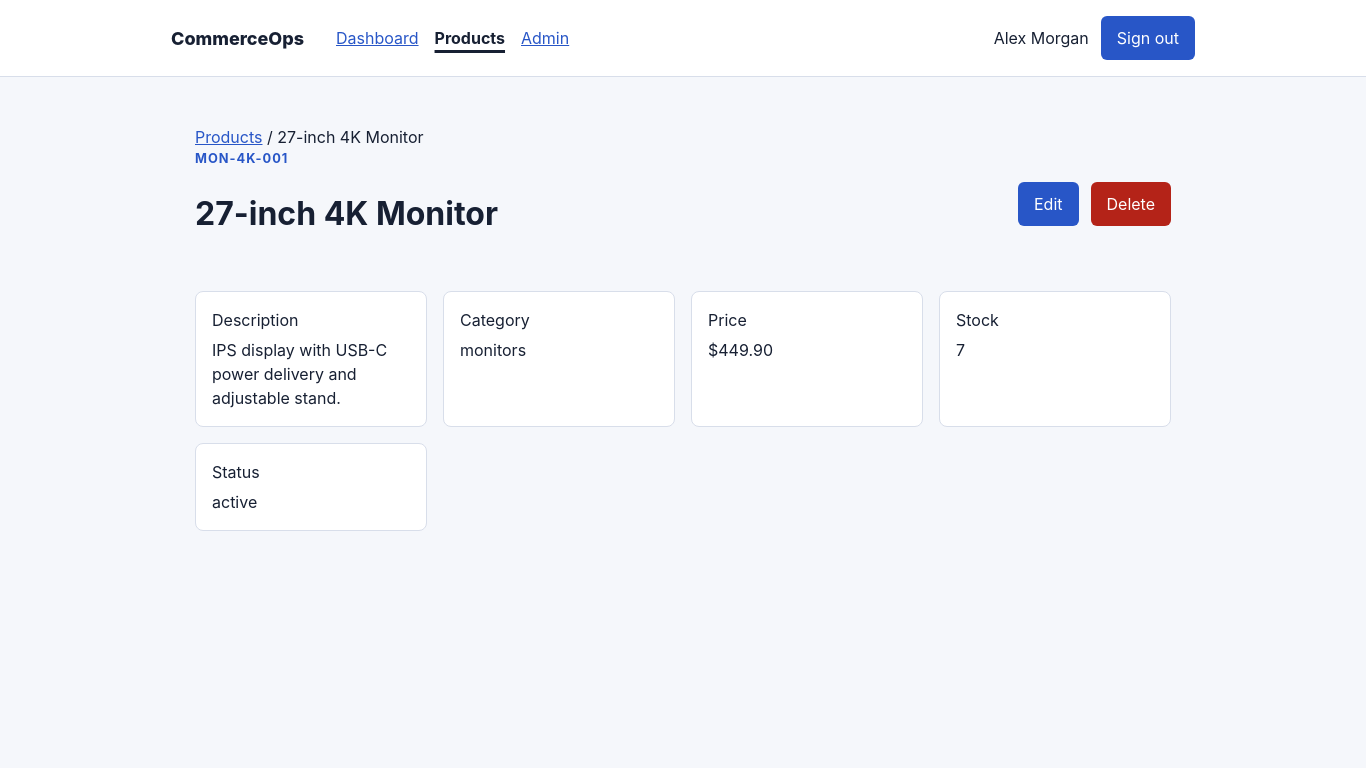
Test case: authentication UI › requires confirmation before an Admin deletes a product
Click the button "Delete" at (1131, 204), box [1090, 182, 1171, 226]
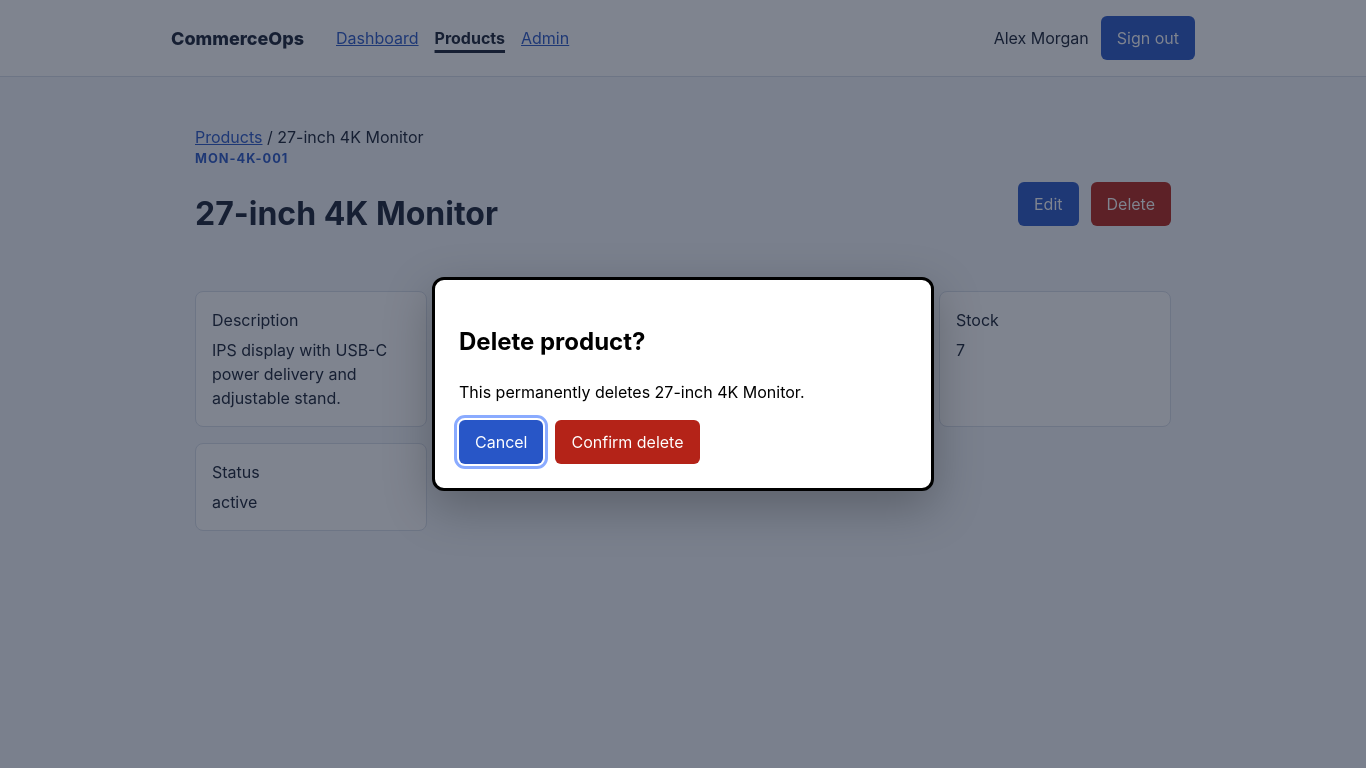
Expected: the dialog "Delete product?" is shown, [432, 277, 934, 491]
Click the button "Confirm delete" at (628, 442), box [556, 420, 700, 464]
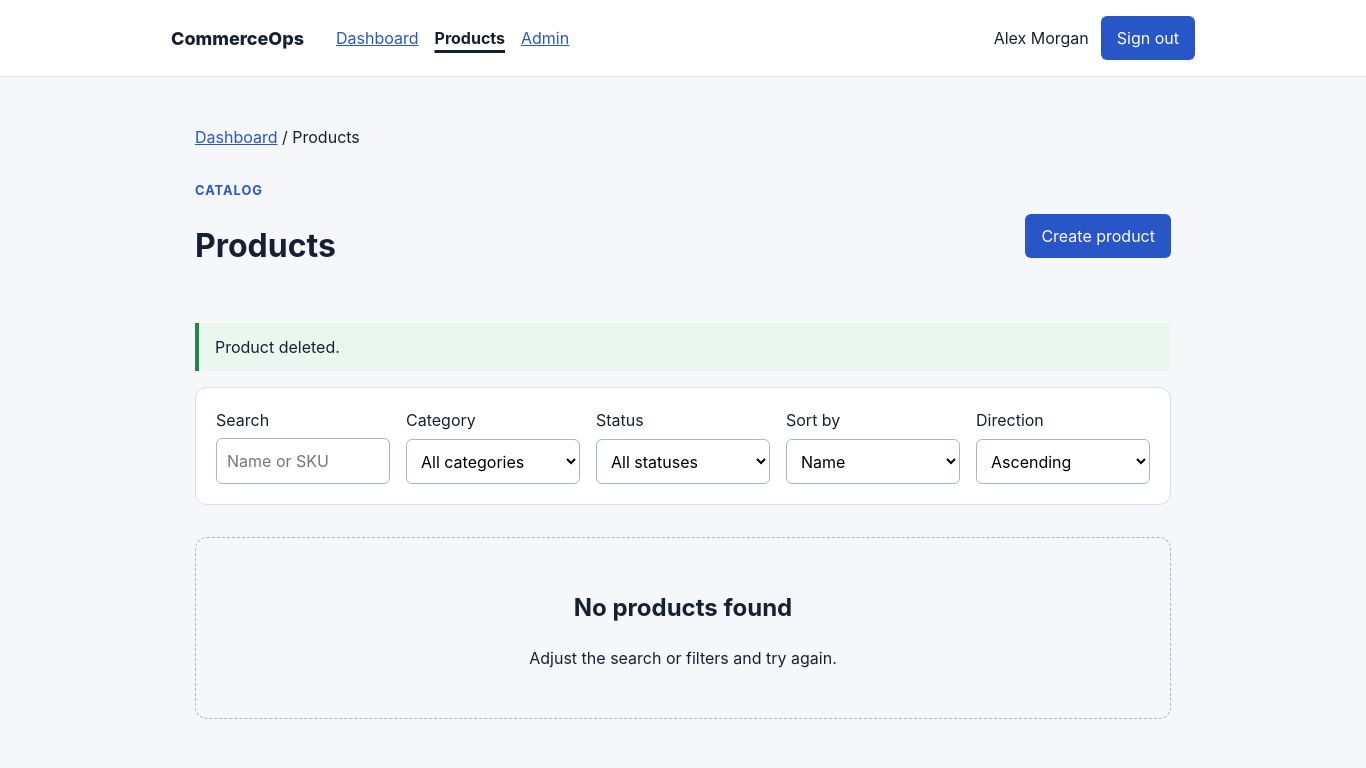
Expected: the text "Product deleted." is shown, [195, 323, 1171, 371]
